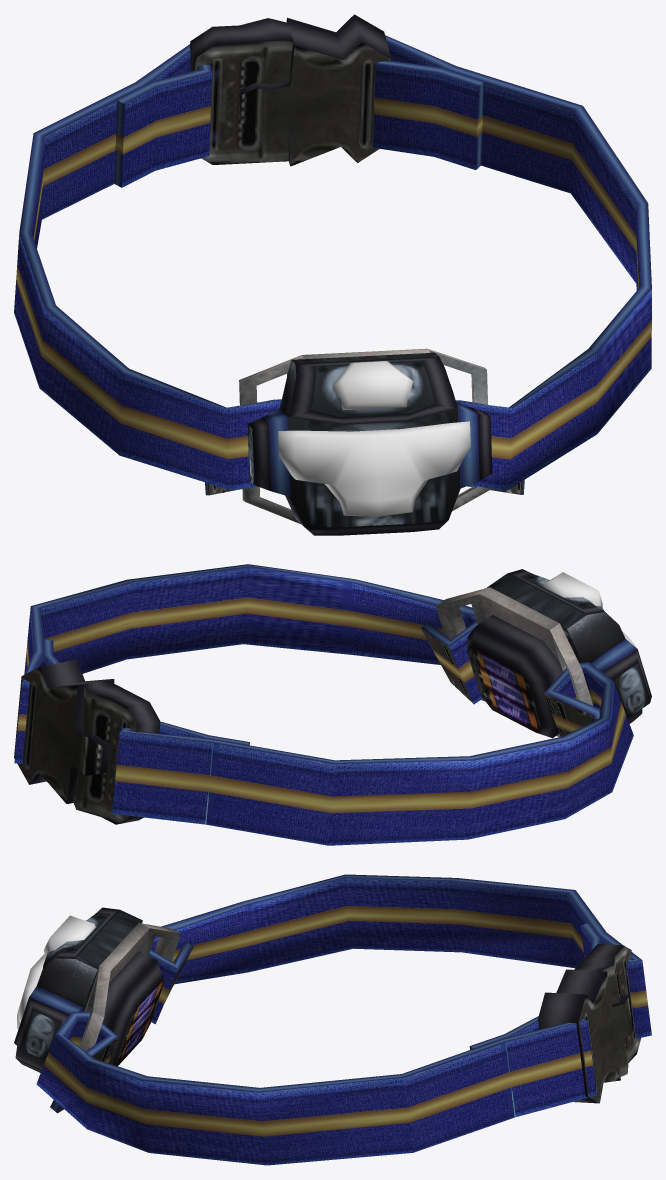
The model's file is Headlamp.fbx.
3 views of the same model, one above another, from view 1: azimuth 30°, elevation 25°; view 2: azimuth 150°, elevation 25°; view 3: azimuth 270°, elevation 25° (orthographic). The views are drawn at different scales.
Parts seen in each view (by area): view 1: Cube.047; view 2: Cube.047; view 3: Cube.047.
Boxes of the visible parts, bbox=[...] form: Cube.047: bbox=[14, 14, 651, 535]; Cube.047: bbox=[14, 564, 651, 845]; Cube.047: bbox=[14, 874, 651, 1165].
Size of the model in its own units: 73.62 by 27.5 by 84.42.
Materials: 4 (3 with a texture image).
